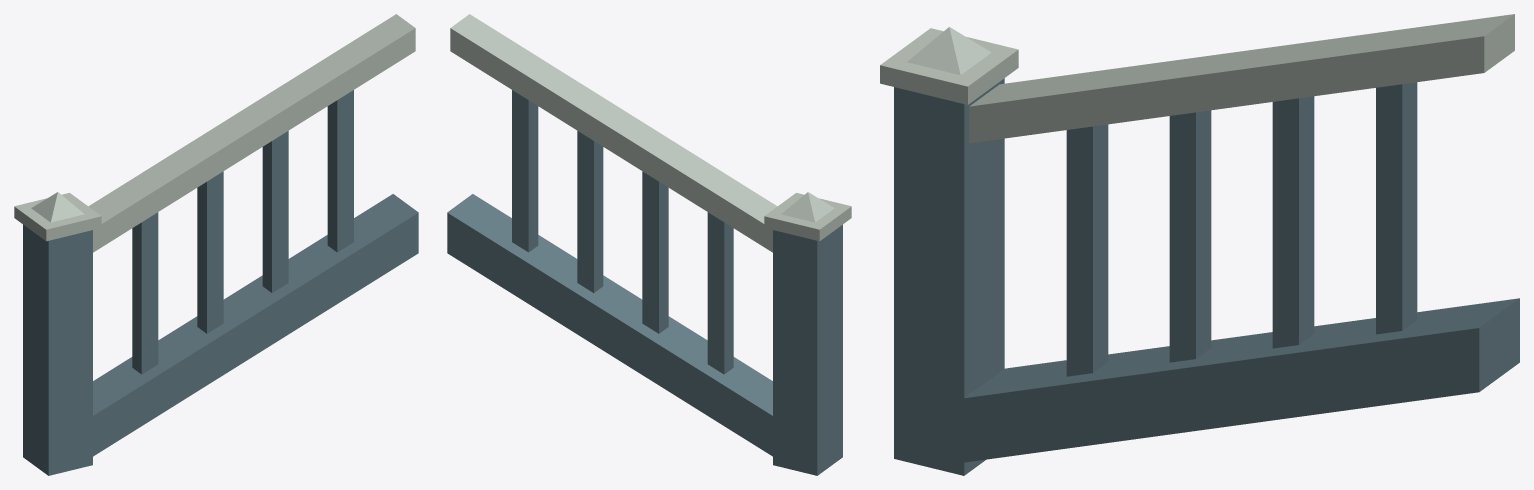
Rendered from rail_stair_4in11_2m.glb.
3 views of the same model, side by side, from view 1: azimuth 30°, elevation 25°; view 2: azimuth 150°, elevation 25°; view 3: azimuth 330°, elevation 25° (orthographic). The views are drawn at different scales.
Parts seen in each view (by area): view 1: RailStair4in11_2m / Stone, RailStair4in11_2m / Coping; view 2: RailStair4in11_2m / Stone, RailStair4in11_2m / Coping; view 3: RailStair4in11_2m / Stone, RailStair4in11_2m / Coping.
Boxes of the visible parts, x1,y1,x2,y2 form: RailStair4in11_2m / Stone: [23, 90, 418, 475]; RailStair4in11_2m / Coping: [14, 14, 415, 252]; RailStair4in11_2m / Stone: [447, 90, 842, 475]; RailStair4in11_2m / Coping: [450, 14, 851, 252]; RailStair4in11_2m / Stone: [894, 78, 1519, 475]; RailStair4in11_2m / Coping: [880, 14, 1514, 143].
Bounding box in the file's own units: 2.03 × 1.83 × 0.3.
